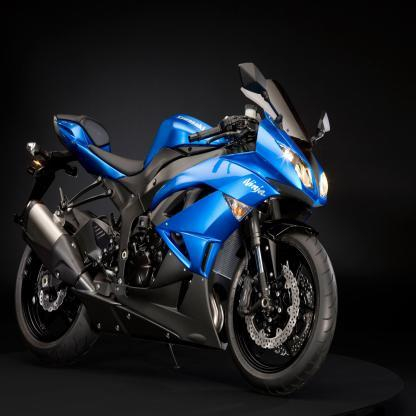Motorcycle: (11, 58, 342, 394)
